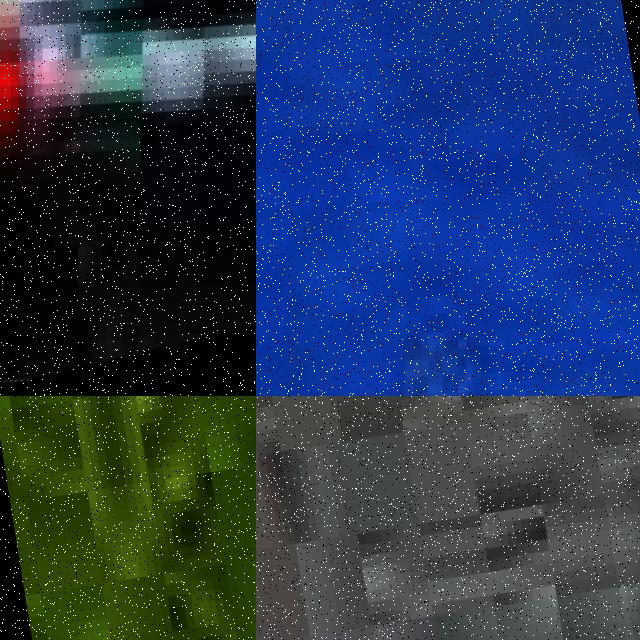0: (0, 0, 256, 396)
drone: (256, 0, 640, 396)
